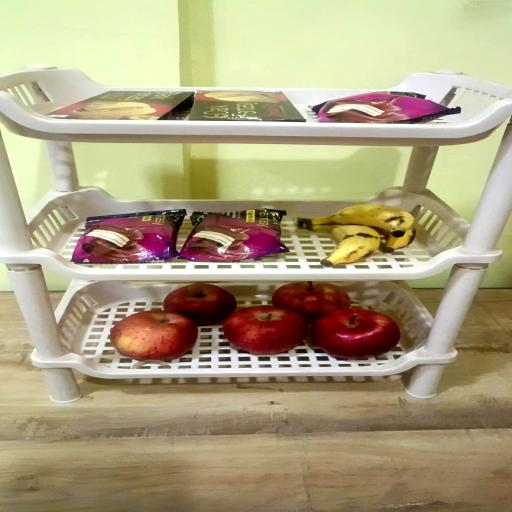Apple: (311, 308, 401, 359), (108, 311, 197, 361), (225, 306, 310, 356), (273, 282, 351, 323), (166, 284, 238, 326)
Choco Fills: (47, 90, 194, 120), (186, 90, 308, 120)
Choco Pie: (71, 212, 184, 266), (180, 212, 290, 263), (312, 91, 460, 123)
